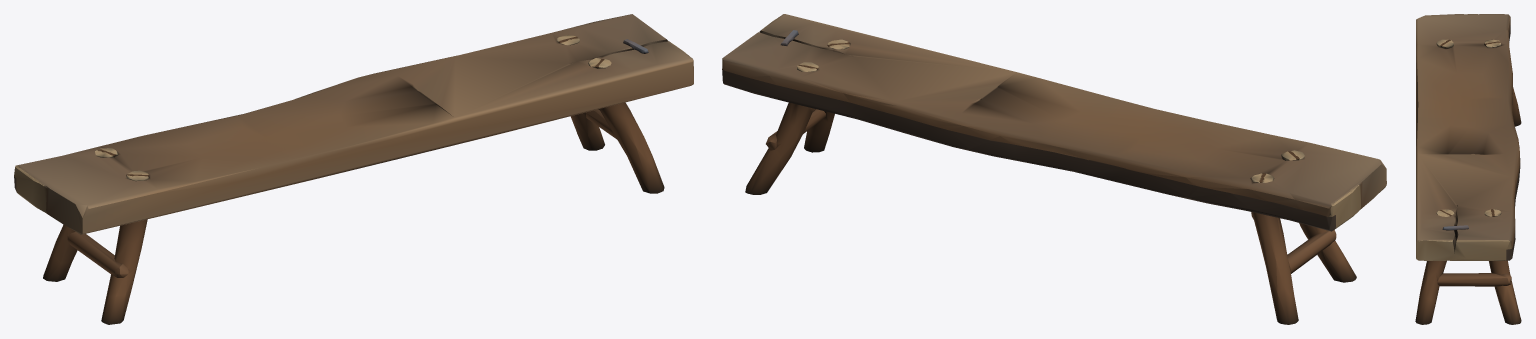
Rendered from bench.glb.
The picture shows the model from 3 angles, left to right: view 1: azimuth 30°, elevation 25°; view 2: azimuth 150°, elevation 25°; view 3: azimuth 270°, elevation 25°; orthographic projection. The views are drawn at different scales.
Parts seen in each view (by area): view 1: bench_LOD0; view 2: bench_LOD0; view 3: bench_LOD0.
Part boxes in pixels (x1,y1,x2,y2): bench_LOD0: (14,14,693,324); bench_LOD0: (722,14,1386,324); bench_LOD0: (1415,14,1521,324).
Size of what is drawn, in the model's own units: 1.59 by 0.3138 by 0.313.
